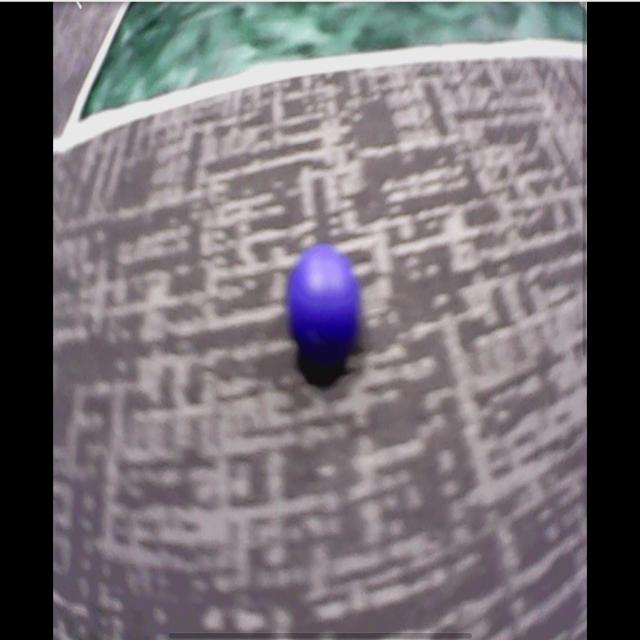ball: (290, 244, 359, 355)
